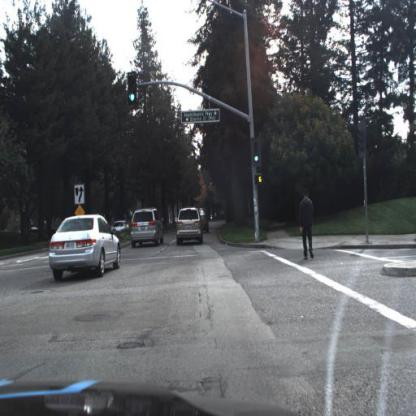car: (43, 209, 123, 283), (131, 206, 165, 247), (177, 206, 204, 247), (199, 206, 211, 237), (199, 209, 212, 237)
pedestrian: (299, 188, 317, 263)
trafficLight-Green: (128, 72, 140, 108), (252, 137, 264, 171), (128, 72, 139, 104)
